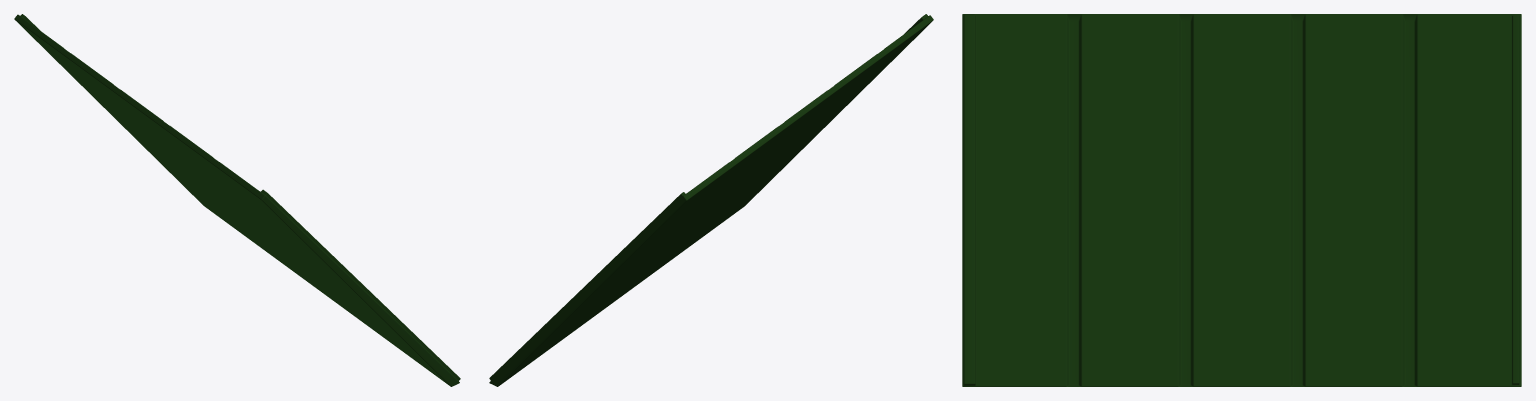
File: FM_H_SH_02_Roof_02_001.fbx
3 views of the same model, side by side, from view 1: azimuth 30°, elevation 25°; view 2: azimuth 150°, elevation 25°; view 3: azimuth 270°, elevation 25° (orthographic). The views are drawn at different scales.
Visible parts, largest first — view 1: FM_H_Small_house_02_Roof_02_001; view 2: FM_H_Small_house_02_Roof_02_001; view 3: FM_H_Small_house_02_Roof_02_001.
Boxes of the visible parts, x1=… form: FM_H_Small_house_02_Roof_02_001: x1=14, y1=14, x2=460, y2=386; FM_H_Small_house_02_Roof_02_001: x1=489, y1=14, x2=933, y2=386; FM_H_Small_house_02_Roof_02_001: x1=962, y1=14, x2=1521, y2=386.
Bounding box in the file's own units: 3.59 × 4.09 × 7.72.
